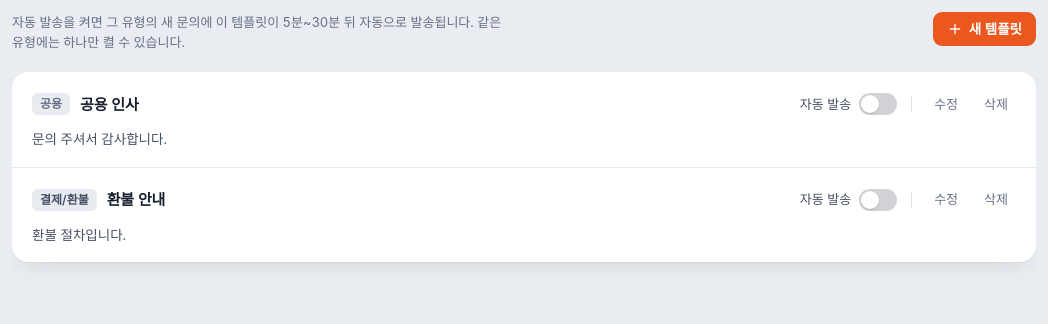
TemplateManager › shows an error when toggling auto send fails
The image size is (1048, 324).
Click the switch named "자동 발송" in the row of "공용 인사" at (878, 104), box [859,93,897,115]
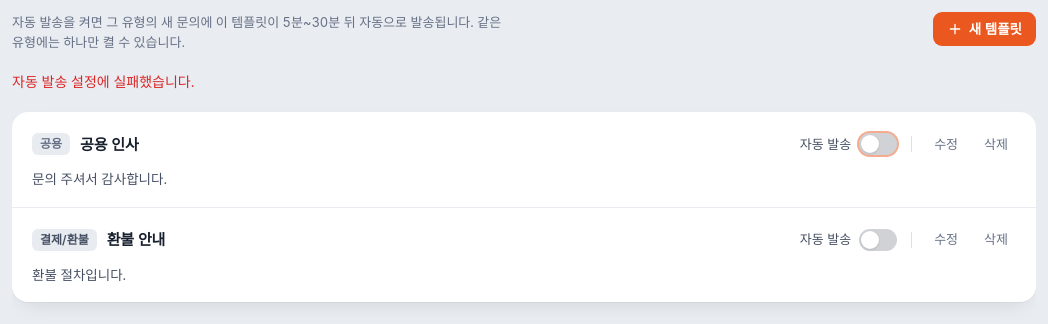
Expected: the text "자동 발송 설정에 실패했습니다." is shown, [12,73,194,90]
